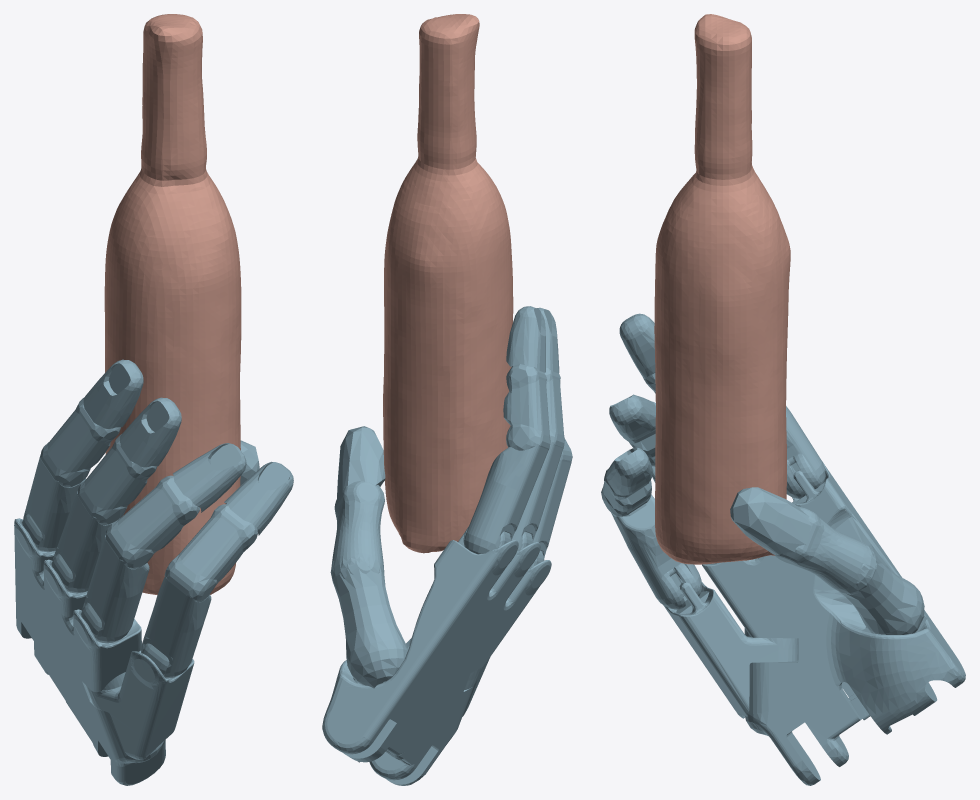
The model's file is 6_joint.glb.
3 renders of one model, left to right at view 1: azimuth 30°, elevation 25°; view 2: azimuth 150°, elevation 25°; view 3: azimuth 270°, elevation 25°, orthographic. The views are drawn at different scales.
Visible parts, largest first — view 1: world; view 2: world; view 3: world.
Boxes of the visible parts, x1,y1,x2,y2 form: world: (14,14,293,785); world: (322,14,572,785); world: (601,14,965,785).
Bounding box in the file's own units: 0.6253 × 2.22 × 0.9683.
